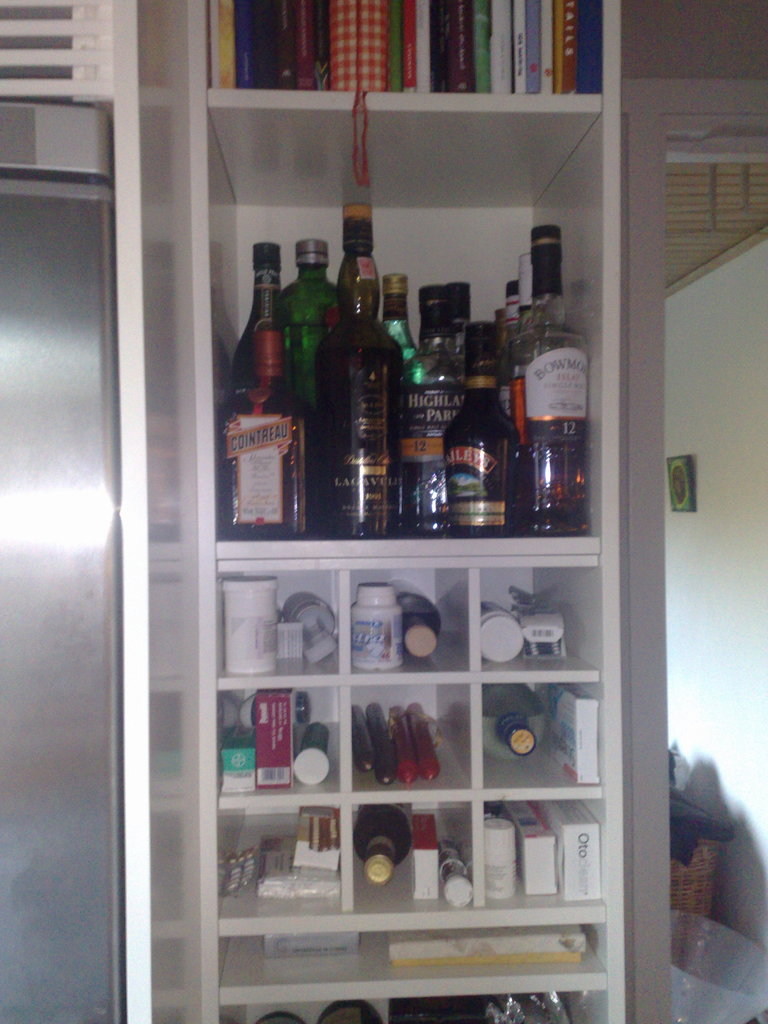refrigerator door: (2, 186, 124, 1024)
